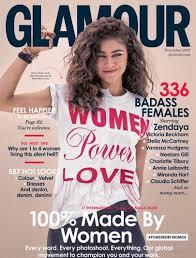Printing industry: (3, 0, 196, 258)
